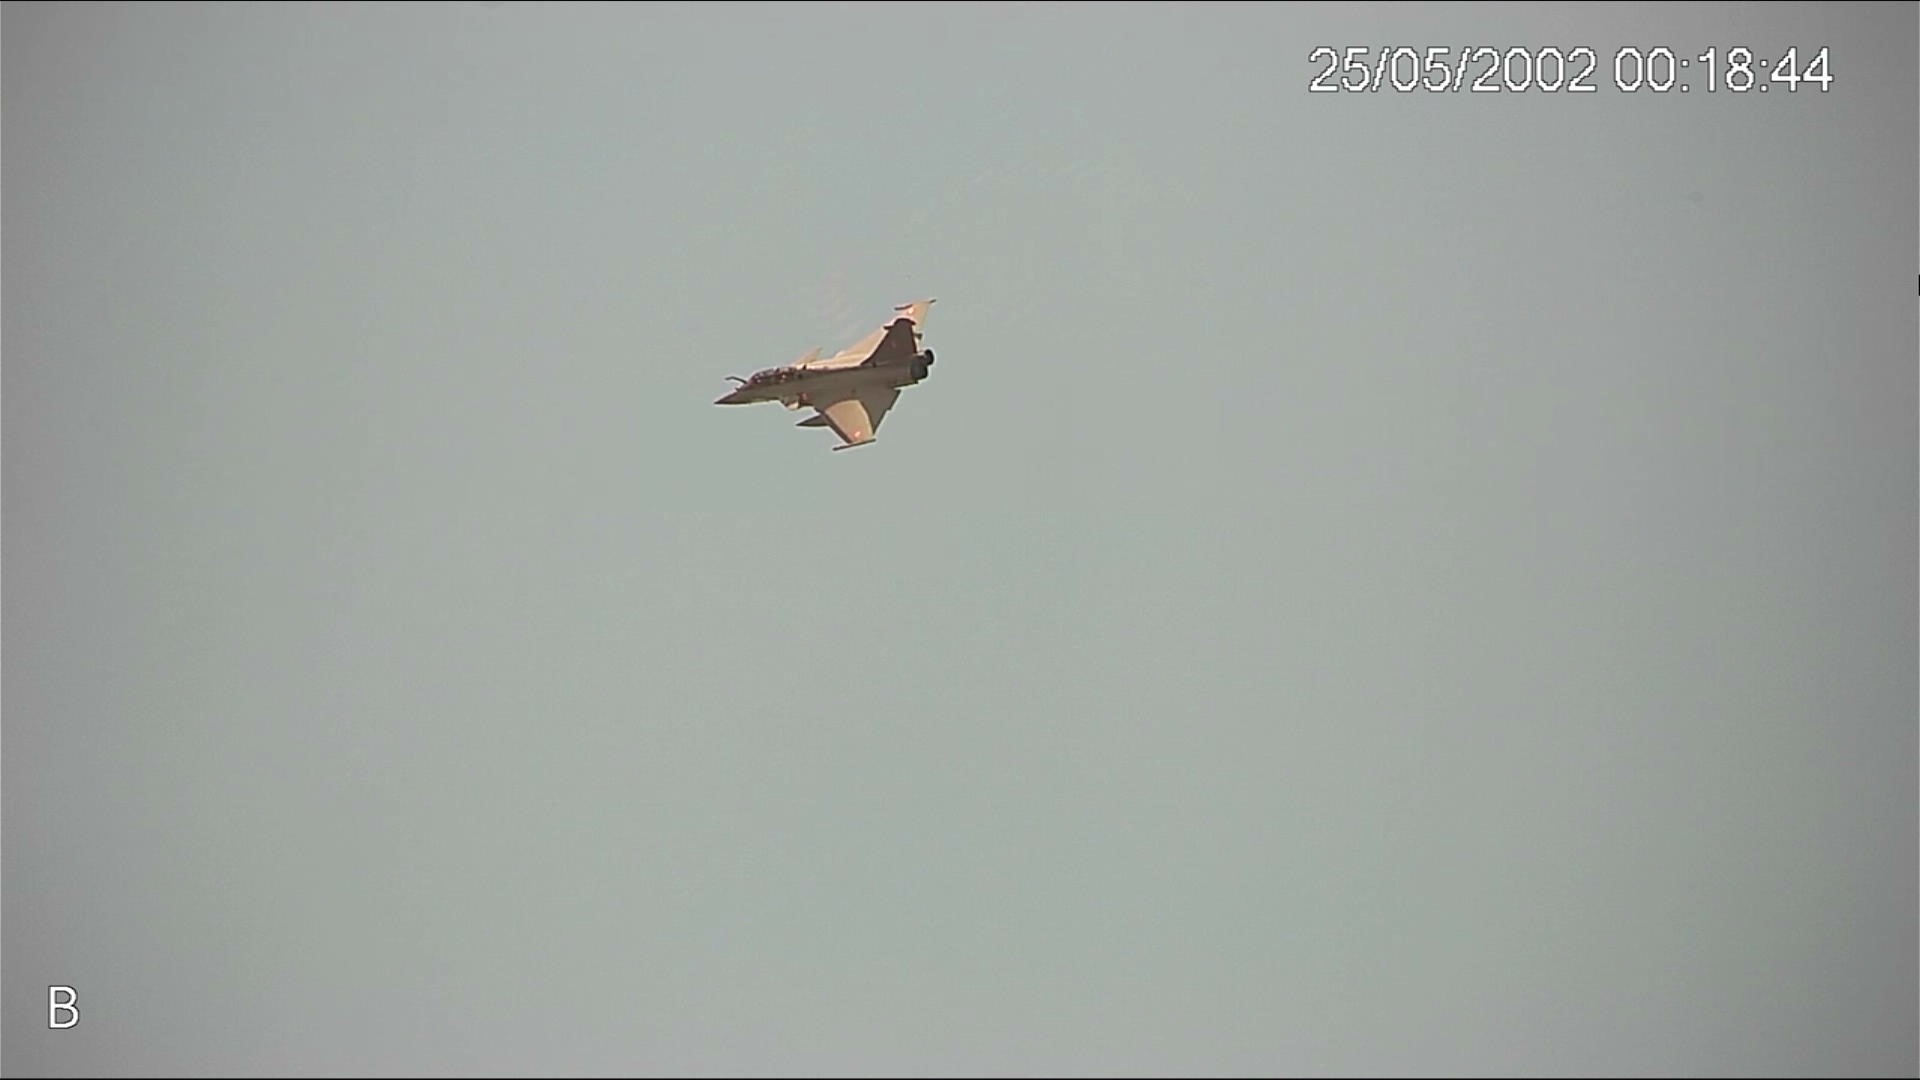SU_30: (711, 297, 935, 455)
